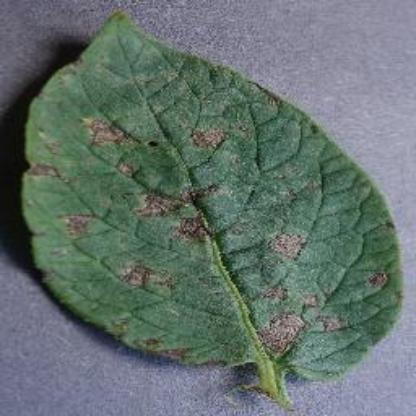Early-Blight: (19, 3, 402, 402)
